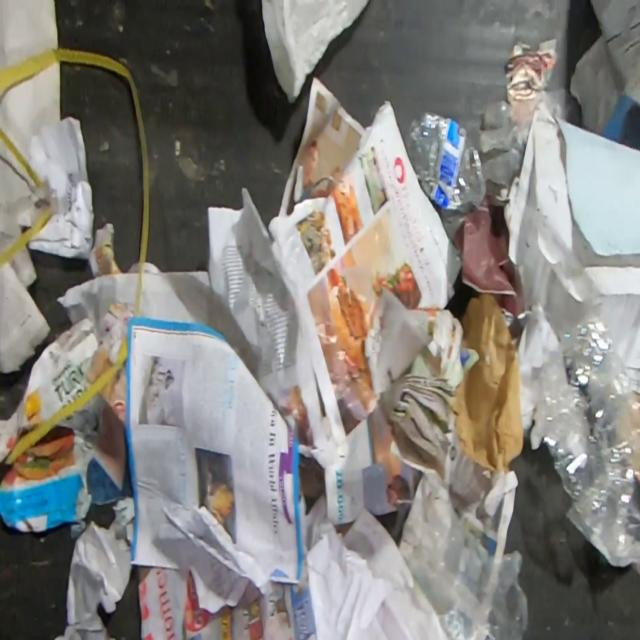rigid_plastic: (530, 304, 640, 560), (404, 109, 487, 215)
soft_plastic: (0, 47, 150, 316), (398, 471, 530, 640), (3, 335, 128, 465), (261, 0, 371, 105), (478, 85, 581, 195), (0, 207, 52, 266), (0, 127, 47, 188)
